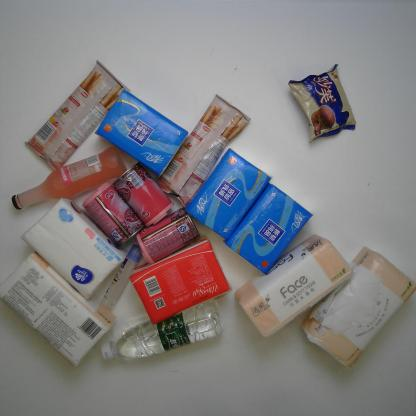Alcohol: (10, 144, 129, 211)
Canned Food: (79, 180, 146, 248), (112, 160, 177, 230), (134, 203, 203, 266)
Dessert: (21, 58, 132, 172), (155, 89, 253, 210), (284, 61, 360, 146)
Drink: (99, 297, 226, 362)
Stationery: (93, 242, 143, 316)
Tissue: (298, 242, 416, 372), (0, 249, 118, 370), (232, 231, 356, 341), (18, 195, 129, 303), (127, 233, 236, 327), (93, 87, 192, 179), (222, 181, 315, 277), (183, 145, 274, 242)
